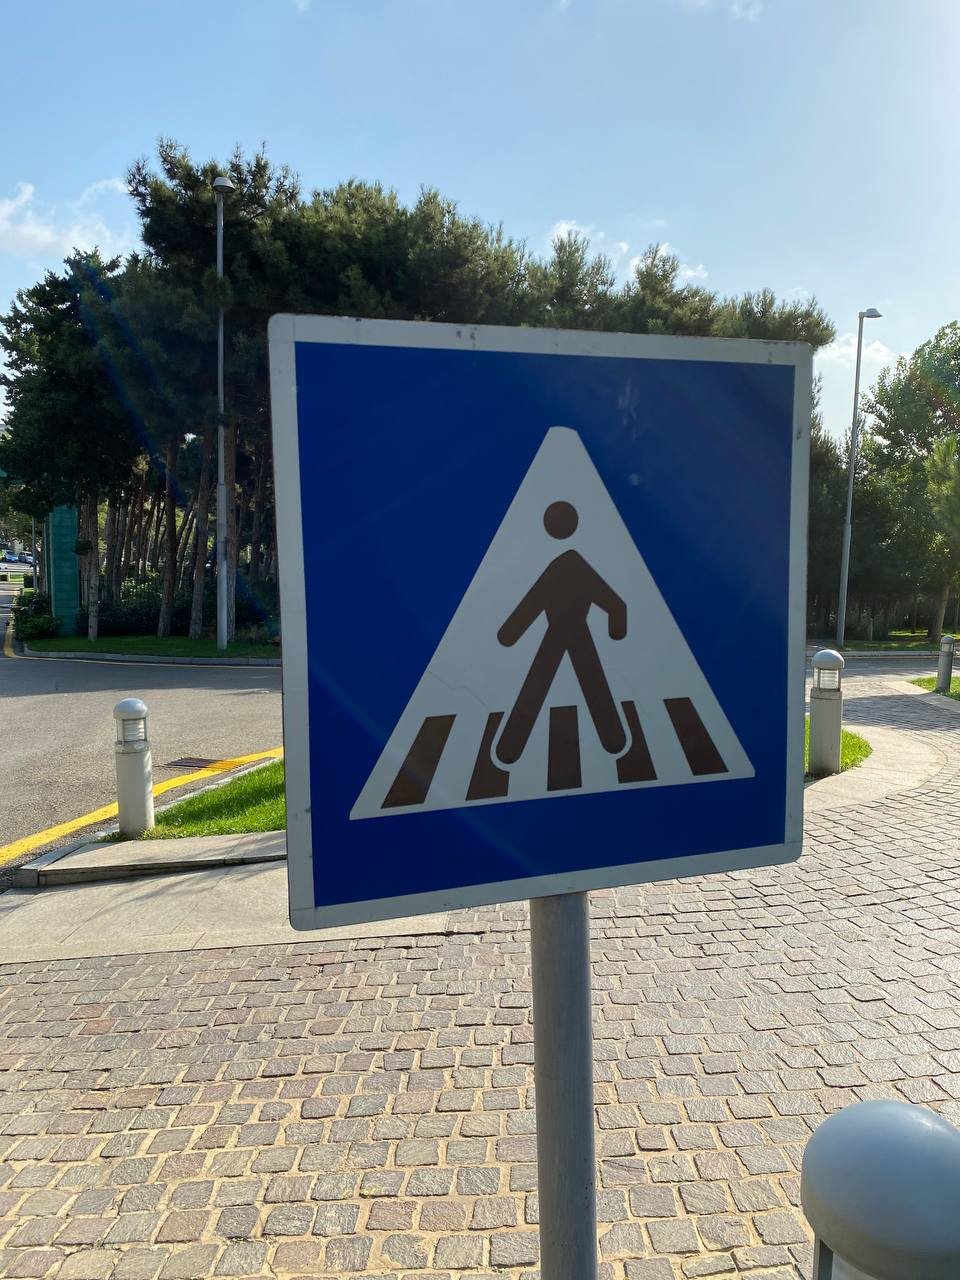Pedestrian Crossing: (267, 311, 808, 933)
